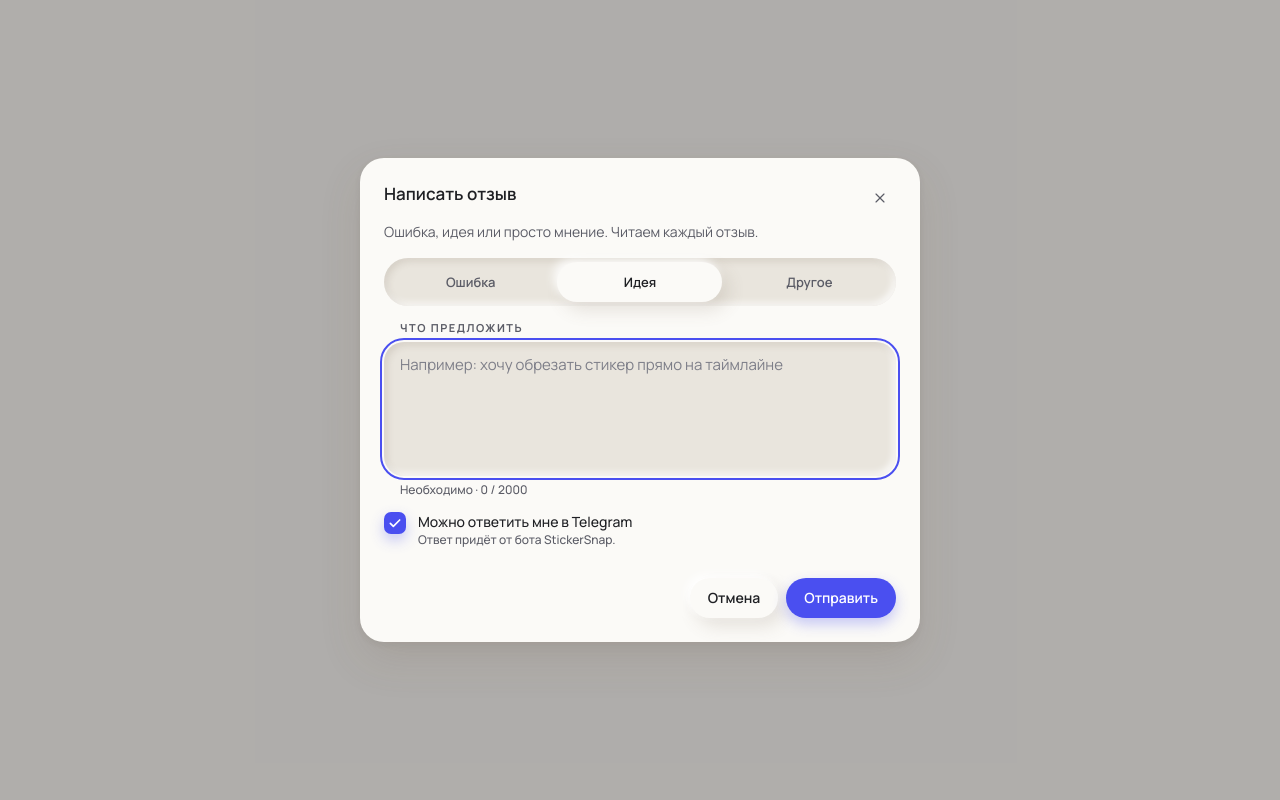
«Написать отзыв» › says what goes with a bug: the note always, the list behind «Что отправится»
Click the radio button labelled "Ошибка" at coordinates (471, 282), box [388,262,553,302]
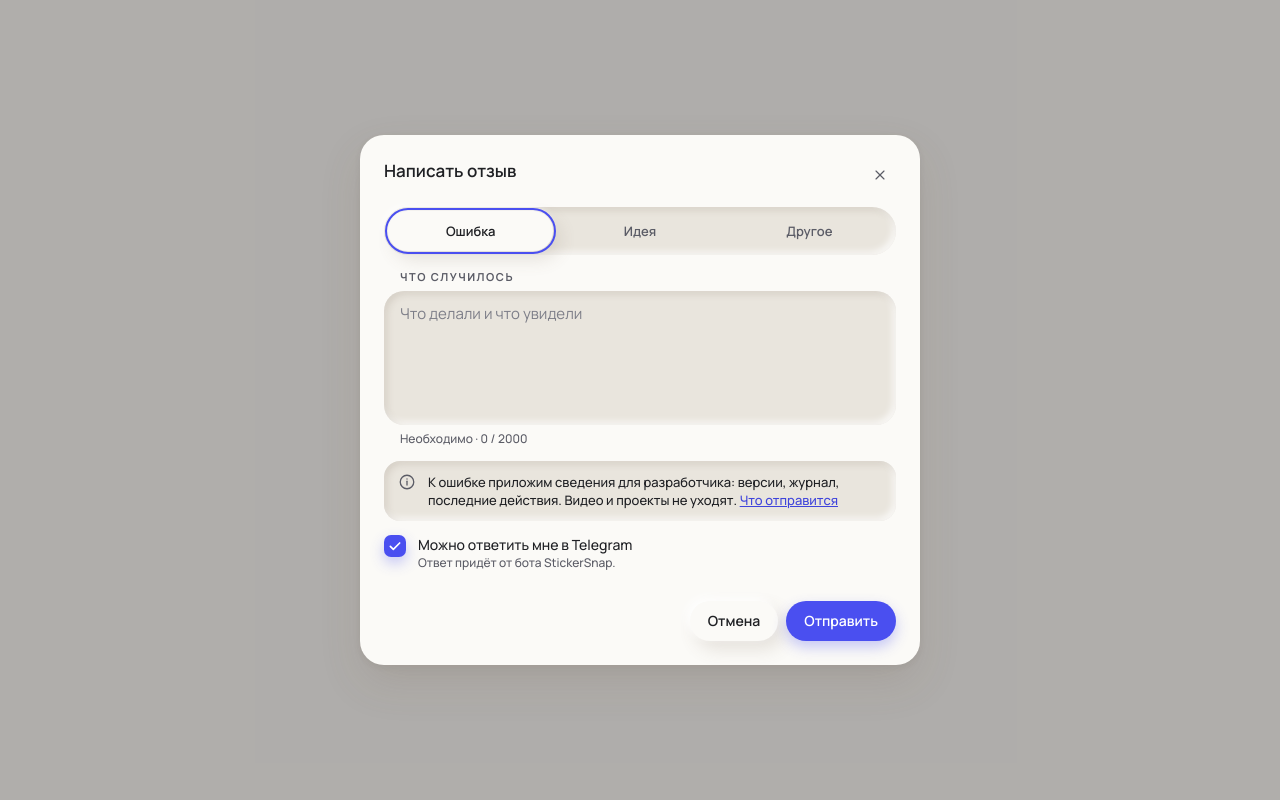
Expected: the text box labelled "Что случилось" is shown, [384,291,896,425]
Expected: the text "К ошибке приложим сведения" is shown, [428,473,839,509]
Click the button "Что отправится" at coordinates (789, 500), box [740,491,838,509]
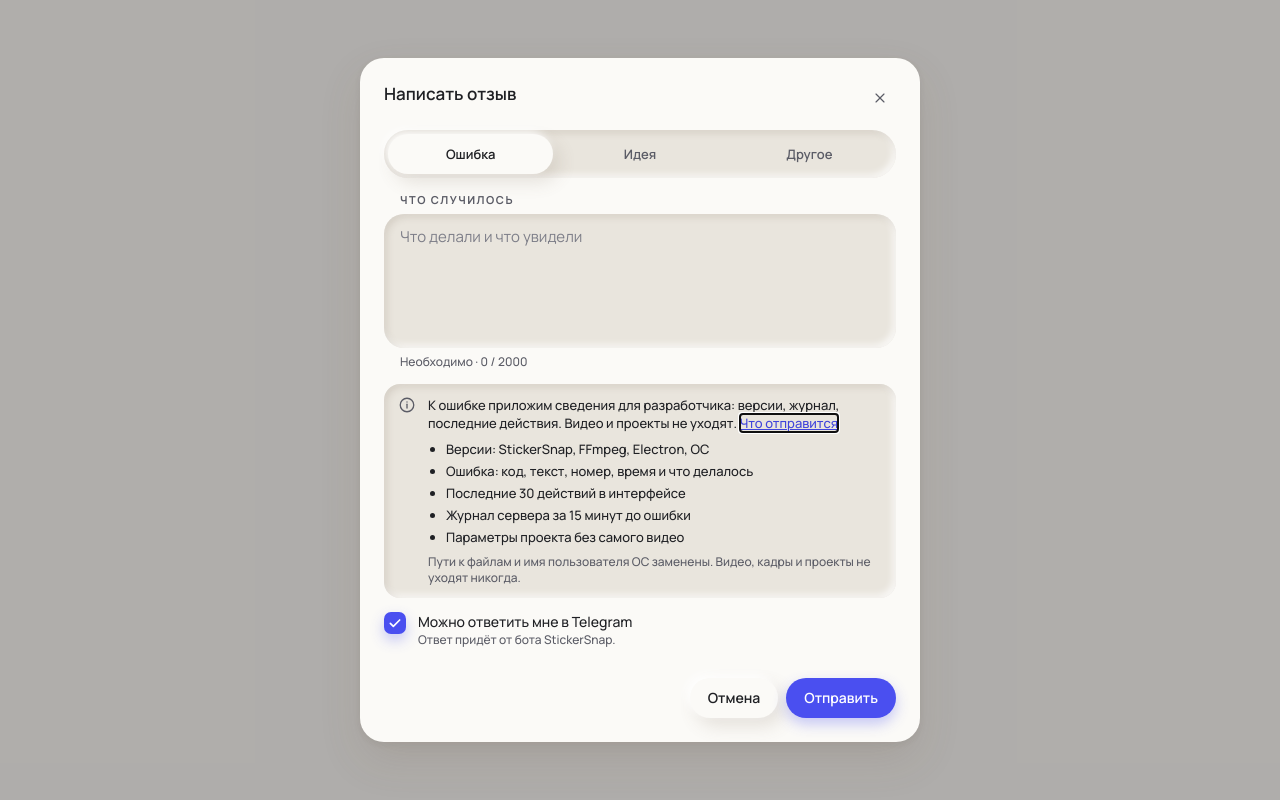
Expected: the list item "Версии: StickerSnap, FFmpeg, Electron, ОС" is shown, [446,440,709,458]
Expected: the list item "Последние 30 действий в интерфейсе" is shown, [446,484,686,502]
Click the radio button labelled "Идея" at coordinates (640, 154), box [557,134,723,174]
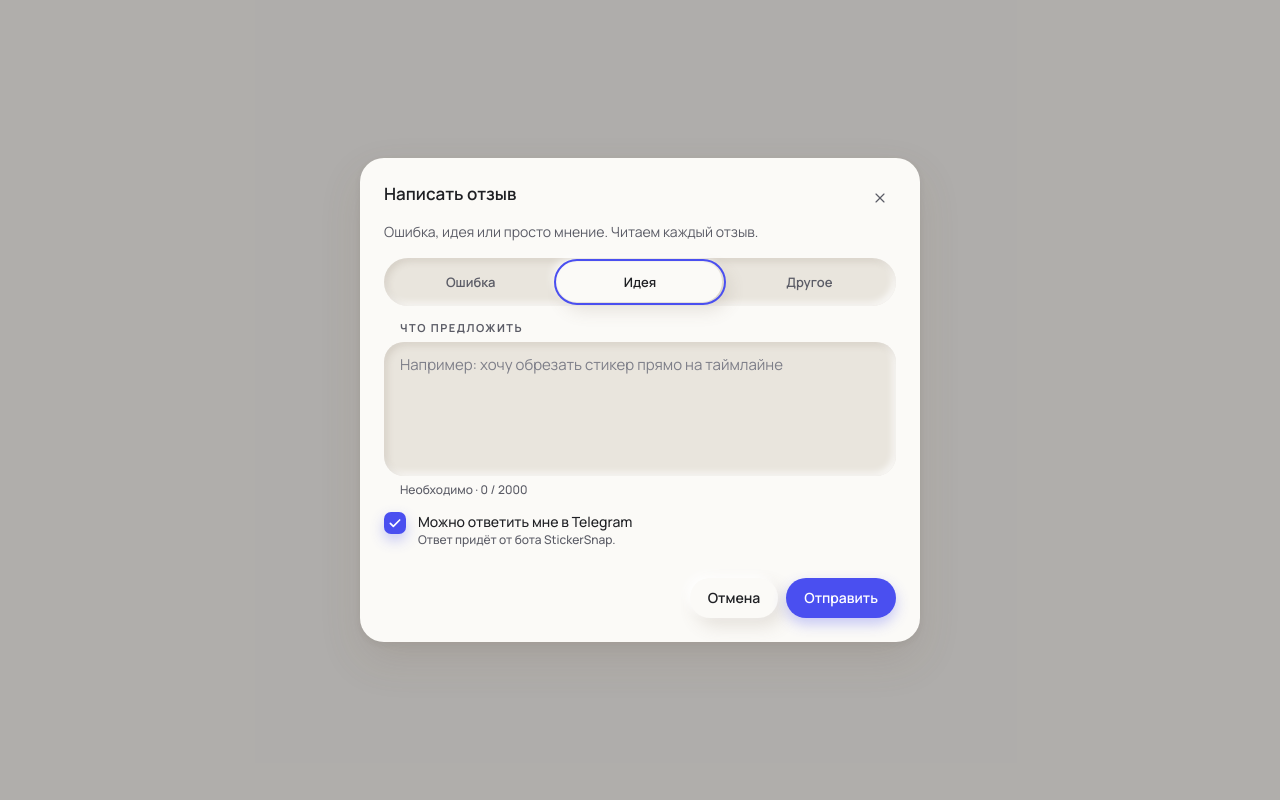
Expected: the text "К ошибке приложим сведения" is gone
